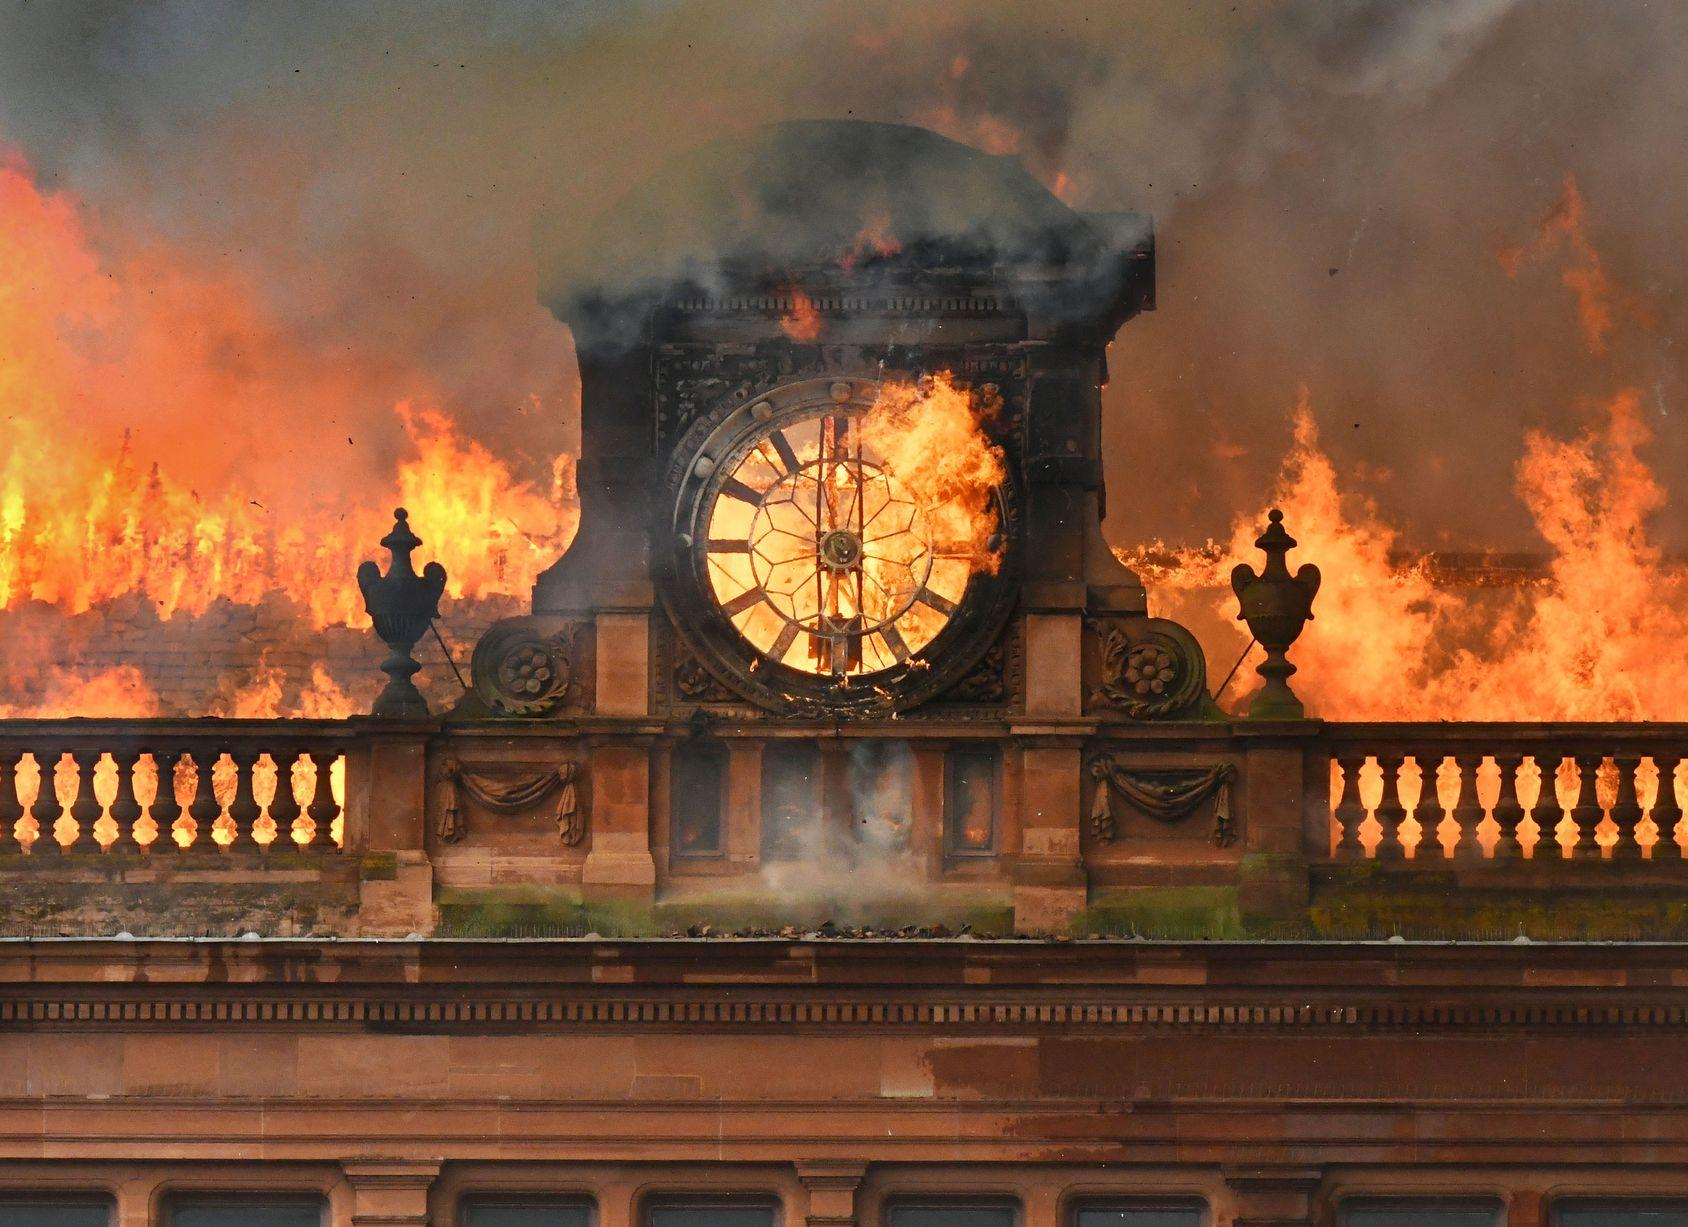Fire: (14, 174, 1688, 910)
